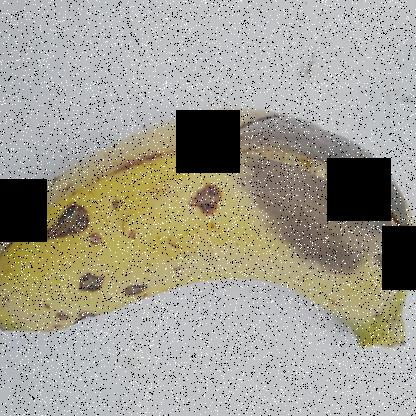rotten: (233, 85, 415, 294), (24, 195, 110, 253), (50, 299, 107, 353), (176, 134, 232, 185), (184, 186, 228, 223), (73, 260, 112, 299), (123, 268, 156, 314)
